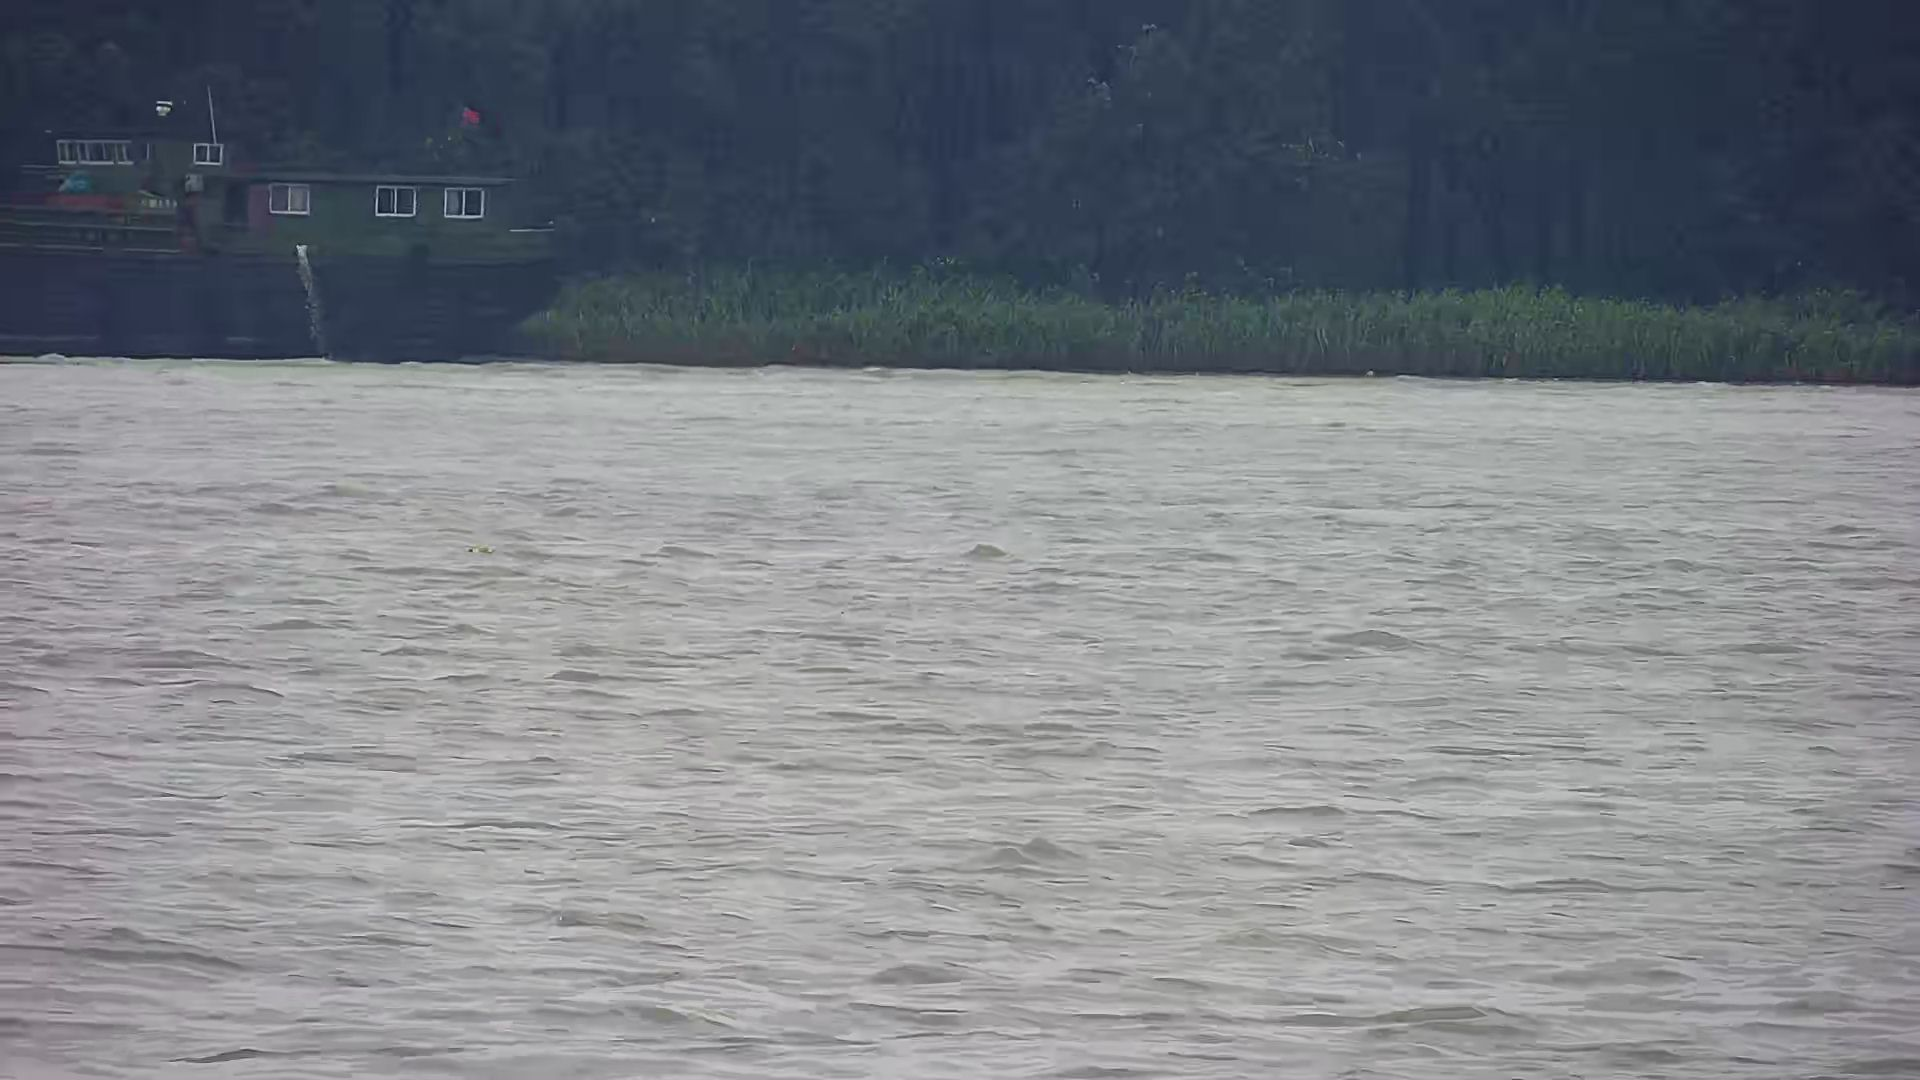ship: (3, 78, 554, 386)
